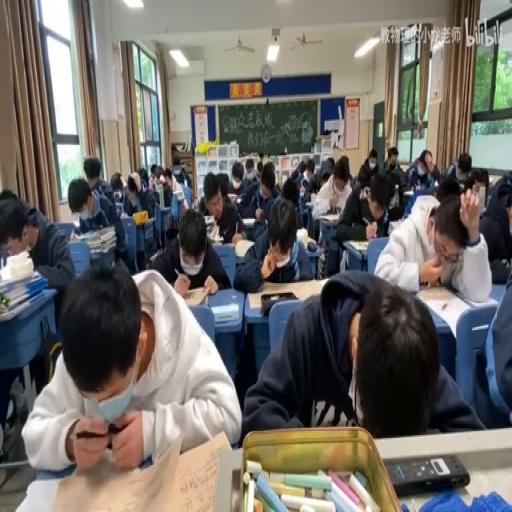calculator: (414, 286, 480, 337), (179, 286, 211, 307), (78, 224, 114, 242), (210, 302, 238, 324), (52, 219, 74, 240), (233, 236, 254, 256), (345, 239, 369, 253), (304, 240, 323, 256), (90, 246, 112, 259), (204, 215, 217, 236), (318, 213, 340, 222), (71, 219, 81, 233), (388, 219, 398, 233), (241, 216, 256, 225), (226, 193, 240, 202), (140, 216, 154, 225), (68, 230, 80, 240), (298, 194, 308, 206), (208, 235, 222, 243), (402, 189, 414, 198), (304, 199, 314, 209), (167, 214, 173, 228), (119, 210, 129, 218)
paper: (26, 257, 238, 471), (242, 267, 482, 438), (374, 182, 490, 297), (2, 189, 75, 327), (234, 193, 316, 289), (332, 166, 390, 273), (478, 250, 512, 426), (194, 172, 246, 245), (478, 174, 512, 273), (123, 170, 158, 224), (157, 164, 188, 219), (83, 155, 115, 208), (253, 161, 280, 222), (406, 146, 438, 190), (442, 151, 472, 185), (383, 144, 408, 184), (357, 148, 379, 186), (468, 165, 490, 202), (297, 158, 317, 193), (280, 176, 300, 206), (109, 172, 127, 202), (243, 156, 257, 186), (216, 170, 230, 194), (230, 164, 244, 188), (316, 170, 330, 190), (386, 206, 402, 222), (148, 160, 158, 184), (137, 166, 148, 186), (171, 154, 181, 175), (0, 188, 17, 200), (181, 166, 191, 186), (126, 186, 137, 204), (290, 165, 300, 183), (326, 155, 334, 171), (256, 160, 262, 178)
person: (384, 452, 470, 494), (259, 292, 297, 316)
